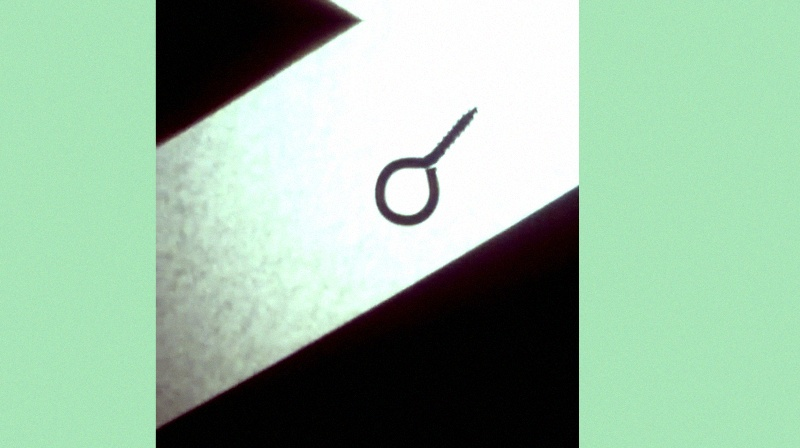O001: (372, 101, 485, 228)
